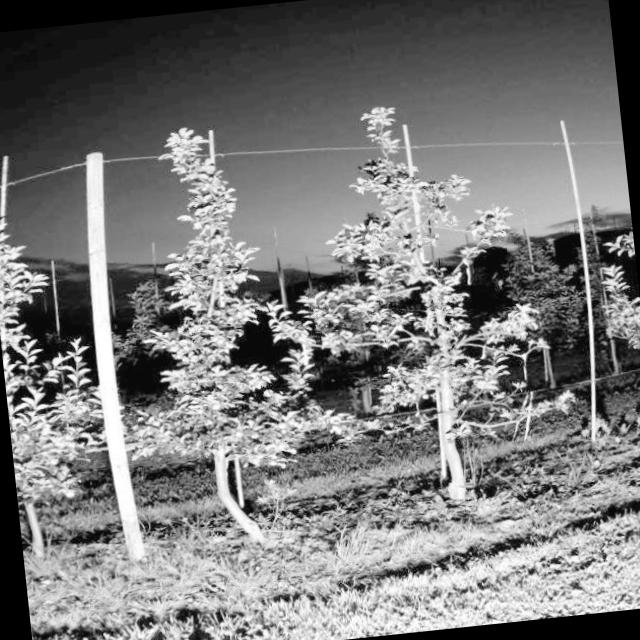Tree: (112, 118, 334, 532), (338, 94, 525, 513), (0, 197, 102, 567)
